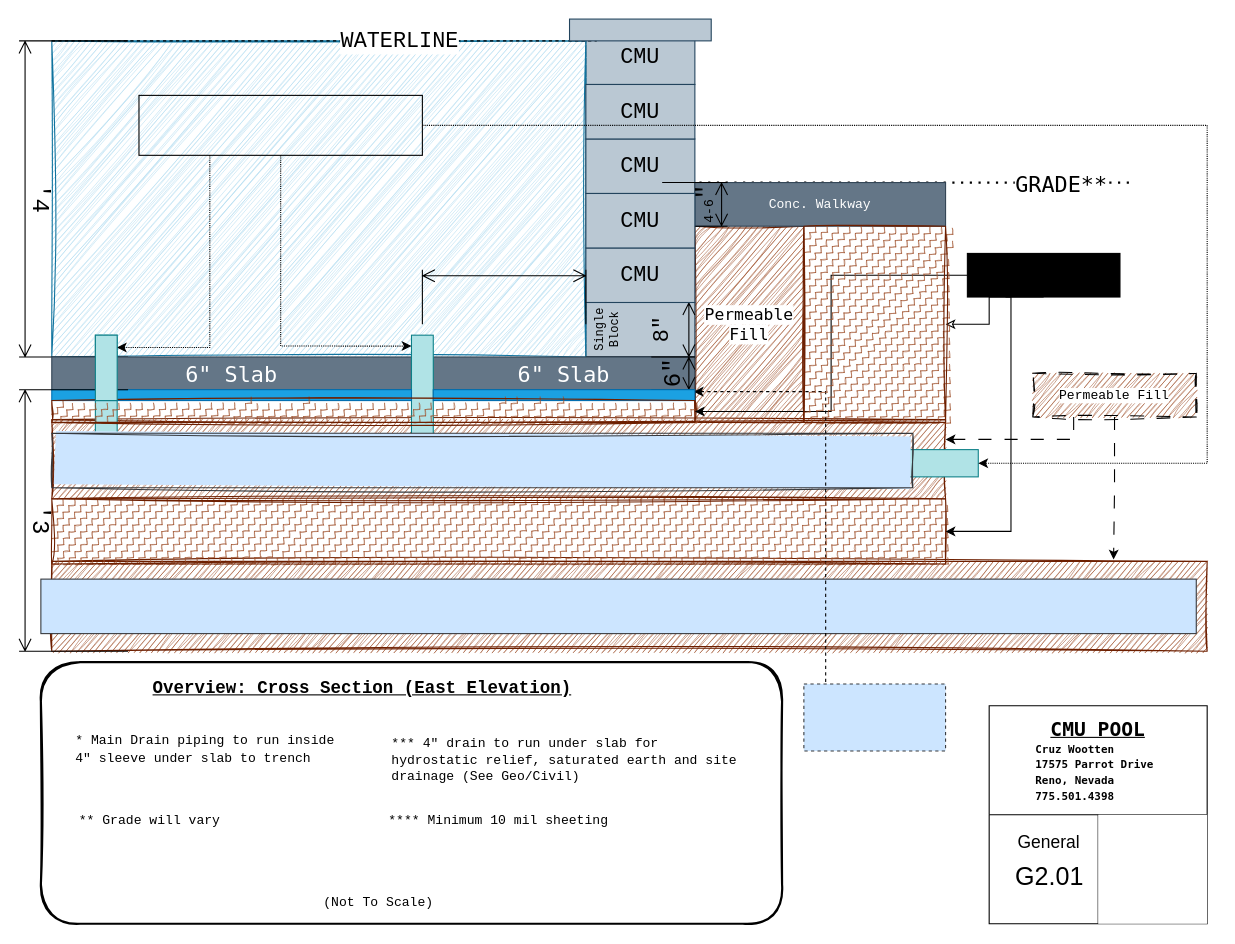
Image size: 1235x944. Some labels were removed from this diagram. Each missing label, with the centre of its shape:
36" O.C.: [503,296]
4" PERFORATED Drain ***: [618,606]
4" Sleeve for underslab plumbing: [482,460]
Compacted Fill: [1043,274]
Drawing Page /: [1152,868]
Main Drains 1" 1/4 SCH 40 PVC: [280,124]
Top Block/Coping: [639,29]
Vapor/Moisture Underlayment ****: [874,717]
